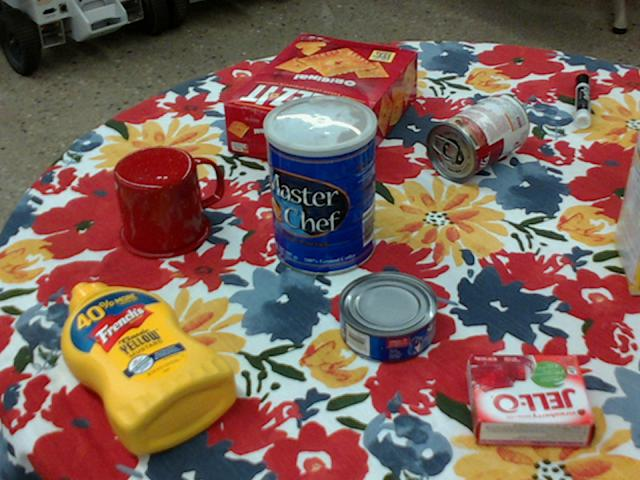cracker_box: (224, 34, 419, 177)
gelatin_box: (470, 355, 597, 447)
large_marker: (574, 73, 590, 126)
master_chef_can: (262, 94, 375, 275)
mug: (113, 145, 221, 259)
mustard_bottle: (61, 282, 238, 453)
potted_meat_can: (637, 156, 639, 173)
sugar_box: (613, 128, 639, 295)
tomato_soup_can: (427, 91, 529, 181)
tuna_fish_can: (338, 272, 438, 363)
